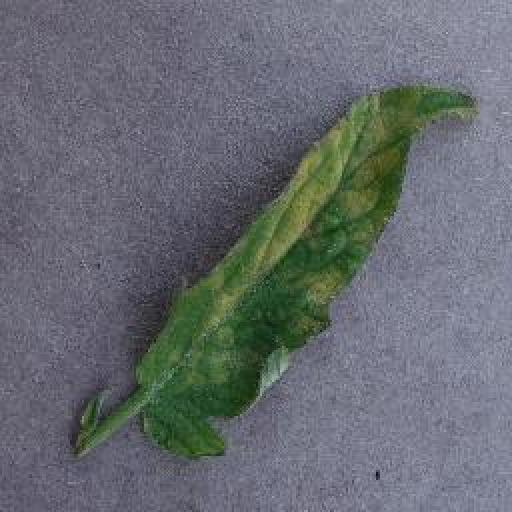Leaf Mold: (135, 84, 476, 457)
